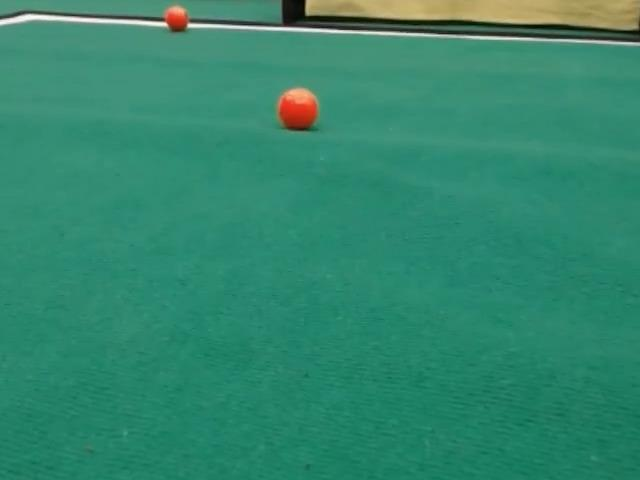Ball: (277, 88, 318, 130), (164, 6, 189, 31)
Yellow Goal: (281, 0, 640, 39)
